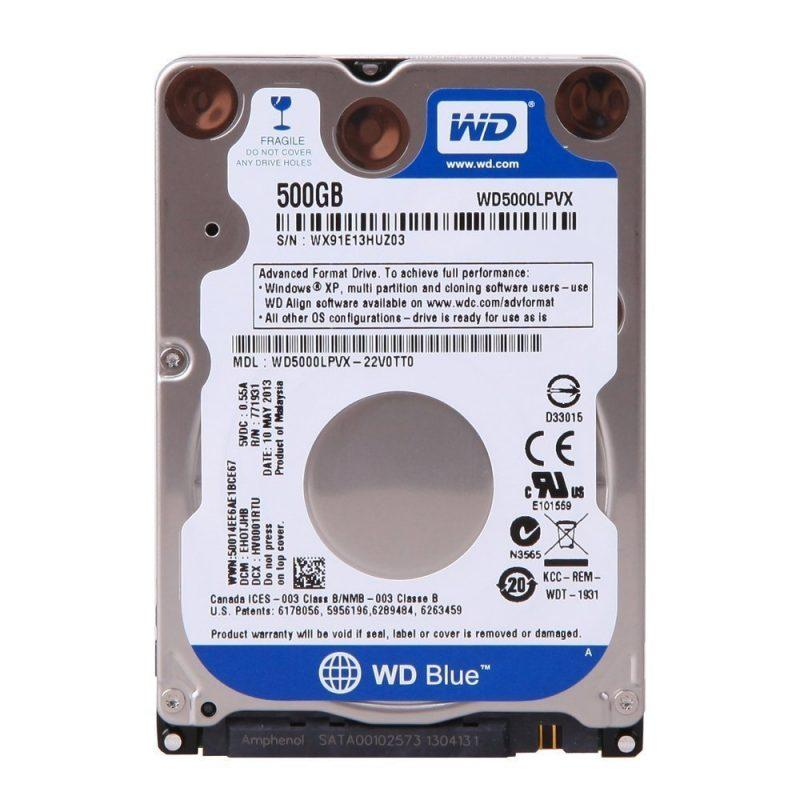internal HDD: (148, 54, 652, 763)
